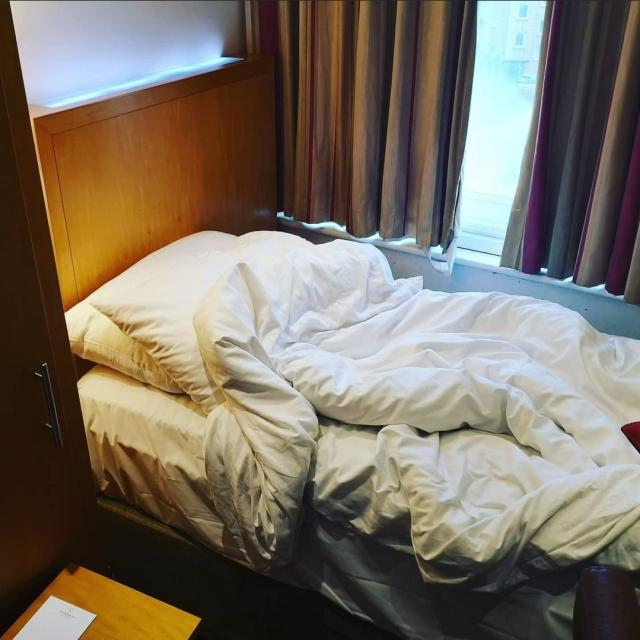bed: (63, 190, 640, 640)
